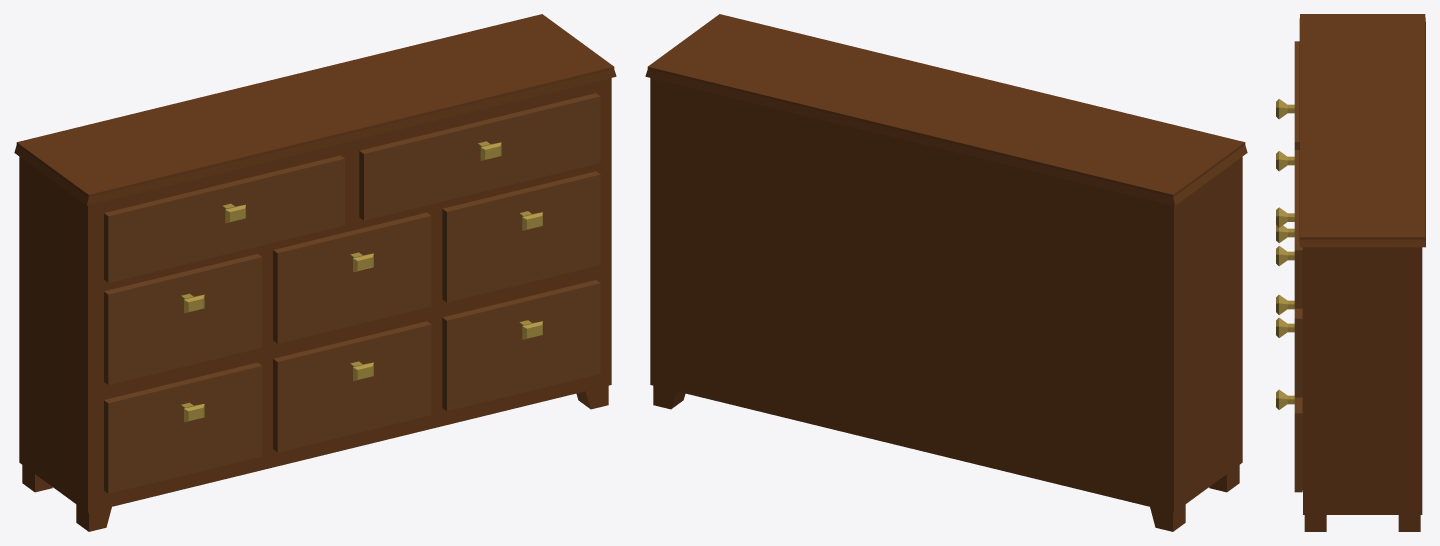
File: dresser.fbx
The picture shows the model from 3 angles, left to right: view 1: azimuth 30°, elevation 25°; view 2: azimuth 150°, elevation 25°; view 3: azimuth 270°, elevation 25°; orthographic projection. The views are drawn at different scales.
Visible parts, largest first — view 1: Dresser, Drawers Top, Drawer BM, Drawer BL, Drawer TR, Drawer TL, Drawer BR, Drawer TM; view 2: Dresser; view 3: Dresser, Drawers Top, Drawer BR, Drawer TR, Drawer TL, Drawer BL, Drawer BM, Drawer TM.
Boxes of the visible parts, box(x1,y1,x2,y2) form: Dresser: box(14, 14, 616, 531); Drawers Top: box(104, 93, 600, 282); Drawer BM: box(273, 321, 431, 452); Drawer BL: box(104, 362, 262, 493); Drawer TR: box(442, 171, 600, 302); Drawer TL: box(104, 254, 262, 384); Drawer BR: box(442, 280, 600, 411); Drawer TM: box(273, 212, 431, 343); Dresser: box(645, 14, 1247, 531); Dresser: box(1299, 14, 1425, 531); Drawers Top: box(1276, 41, 1302, 308); Drawer BR: box(1276, 389, 1302, 492); Drawer TR: box(1276, 294, 1302, 397); Drawer TL: box(1276, 151, 1294, 171); Drawer BL: box(1276, 246, 1294, 266); Drawer BM: box(1276, 317, 1294, 337); Drawer TM: box(1276, 225, 1294, 243).
Bounding box in the file's own units: 4881 × 1372 × 2992.
